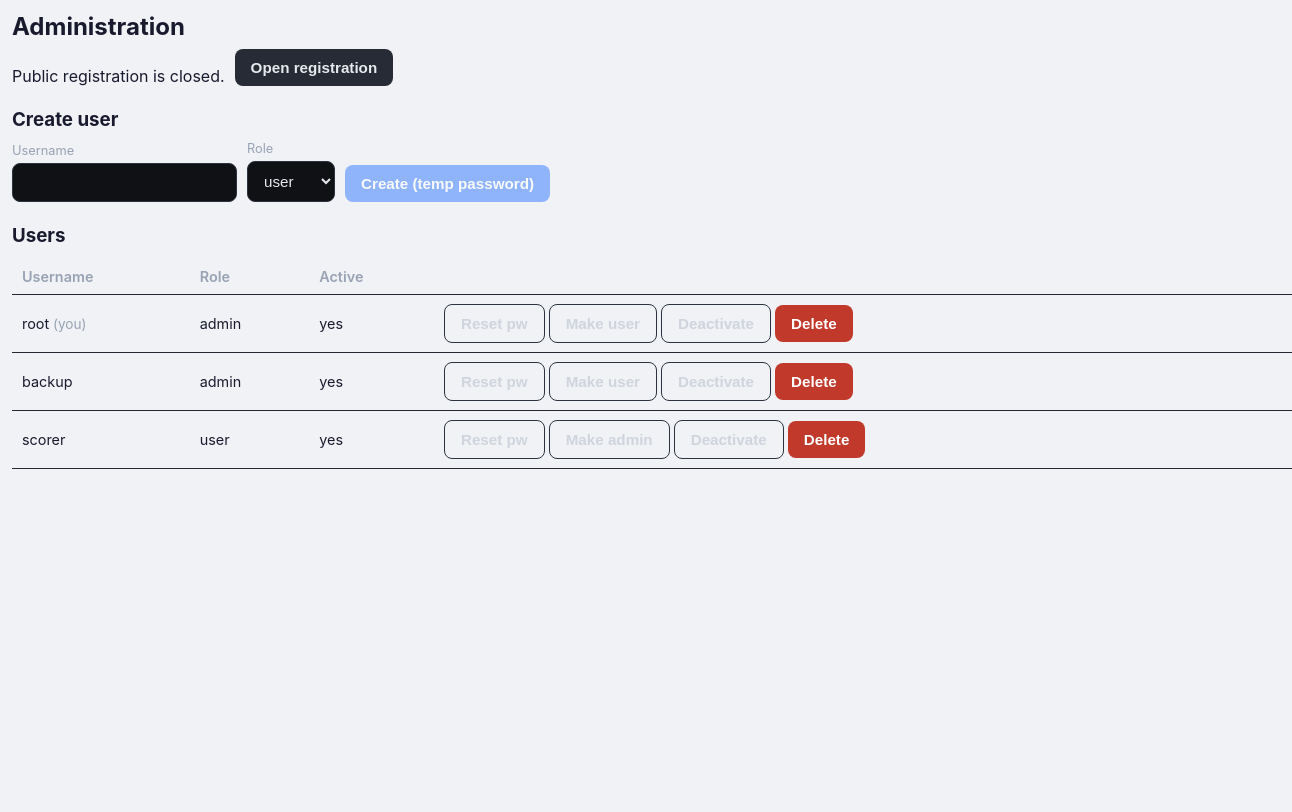
Test case: AdminPage user management › opening registration asks for confirmation and toasts on success
Expected: the text "scorer" is shown, [12,410,190,468]
Click the button "Open registration".
click(314, 68)  # box [235,49,393,86]
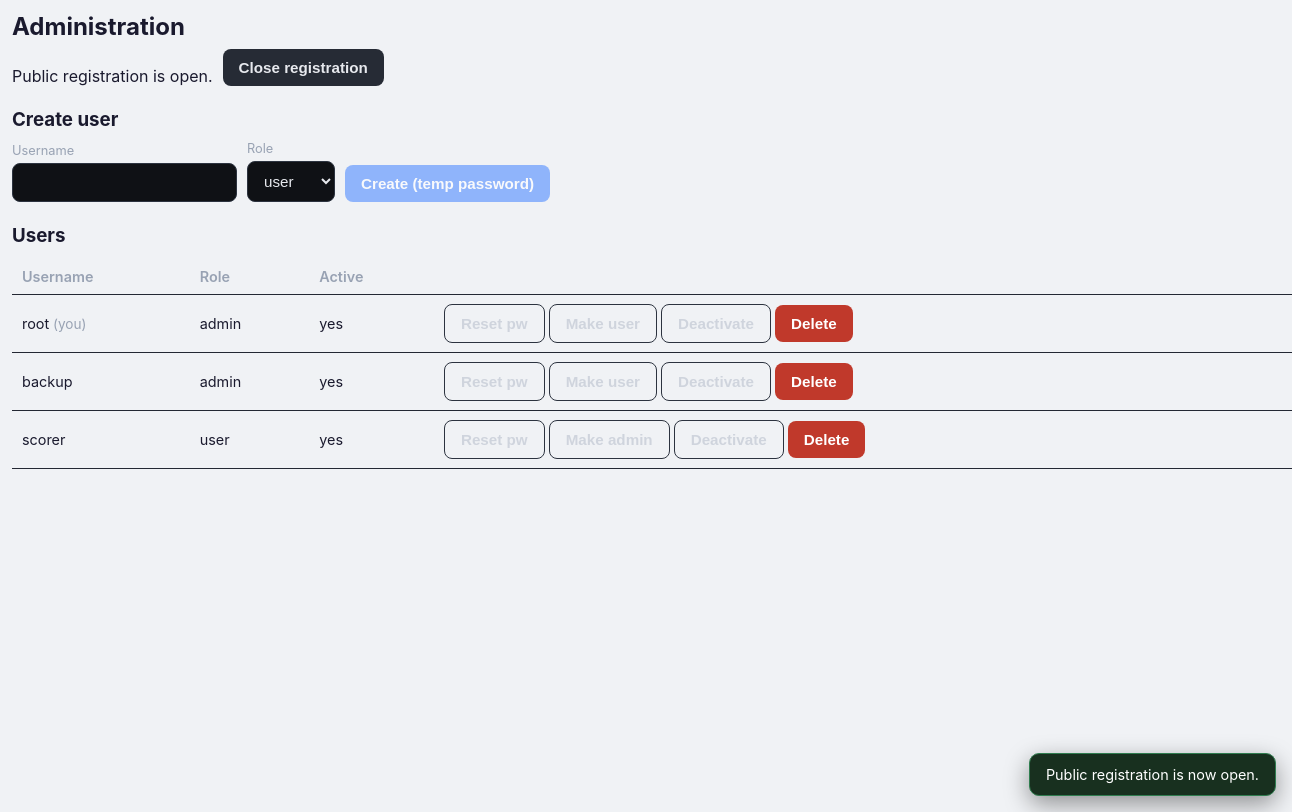
Now the text "Public registration is now open." is shown, box [1029,753,1276,796]
